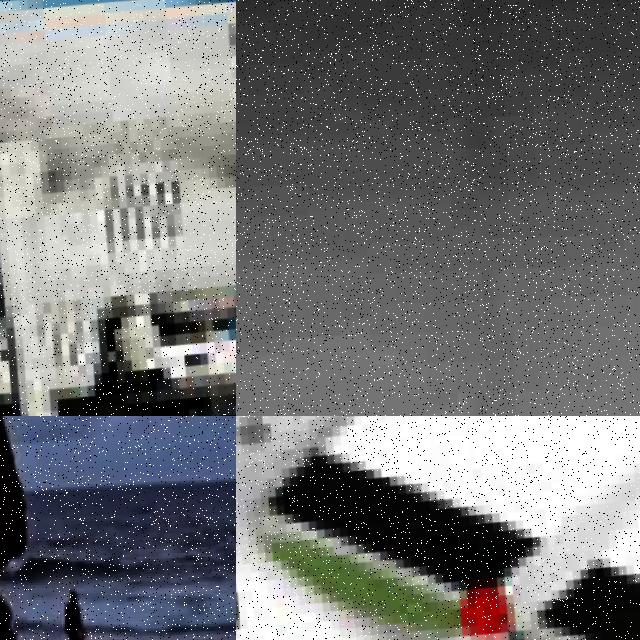drone: (0, 0, 236, 416), (236, 416, 640, 640)
